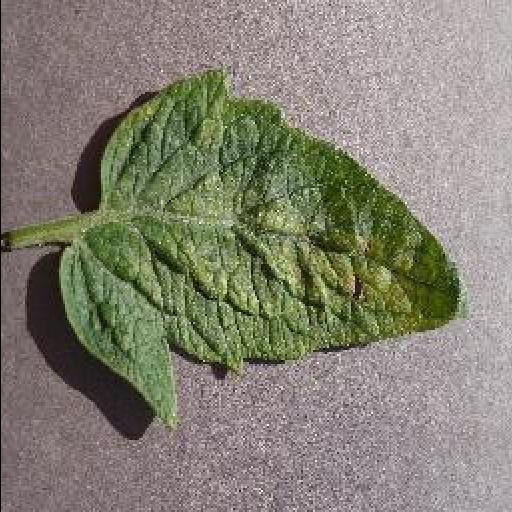disease_tomato: (58, 68, 468, 426)
